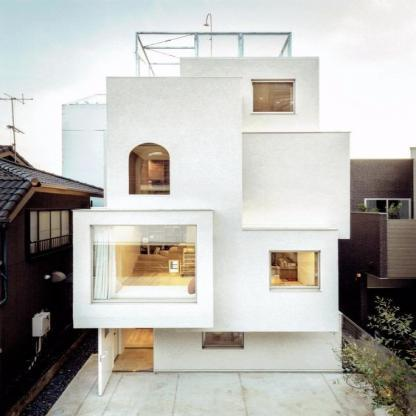Building Outline: (60, 13, 352, 397)
Door: (112, 316, 154, 372)
Facade: (61, 9, 353, 373)
Floor Slab: (175, 326, 338, 331), (73, 323, 213, 328), (106, 204, 243, 209), (183, 126, 319, 131)
Window: (93, 227, 196, 300), (128, 143, 170, 195), (271, 253, 319, 287), (204, 316, 243, 345), (254, 83, 293, 112)
